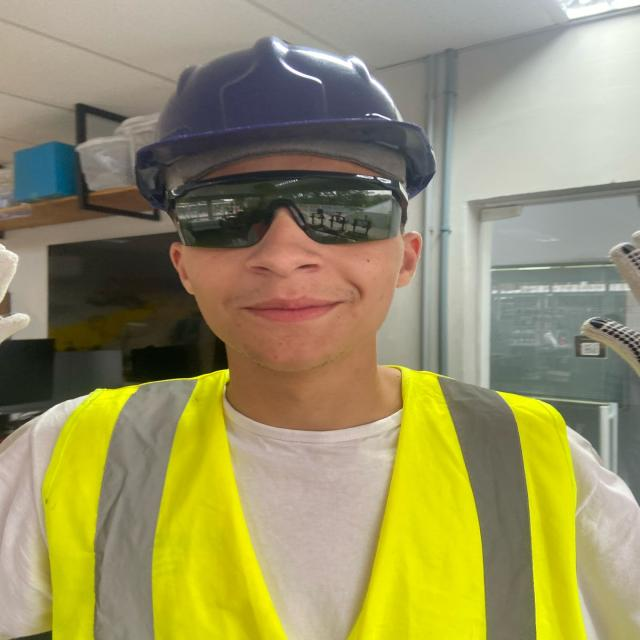CAPACETE: (138, 33, 439, 205)
COLETE: (25, 362, 588, 638)
OCULOS: (160, 172, 413, 250)
